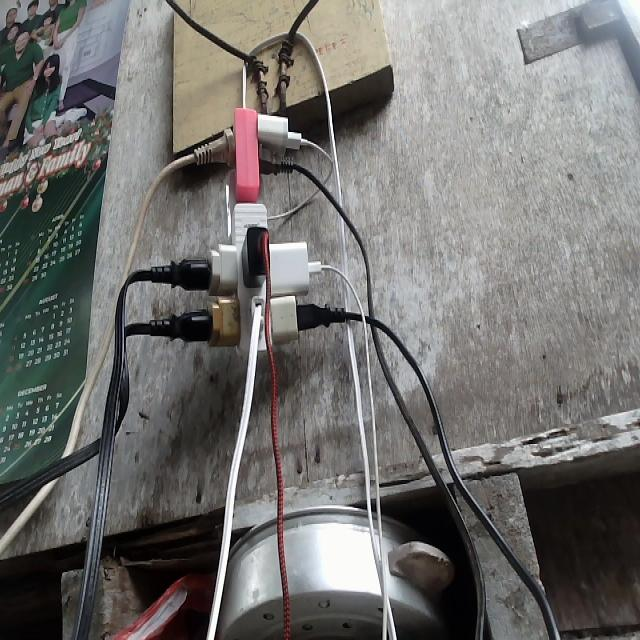-: (160, 107, 345, 352)
